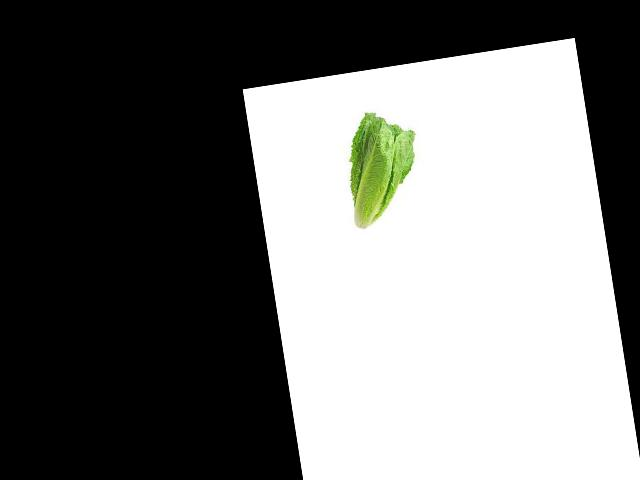lettuce: (333, 109, 427, 235)
